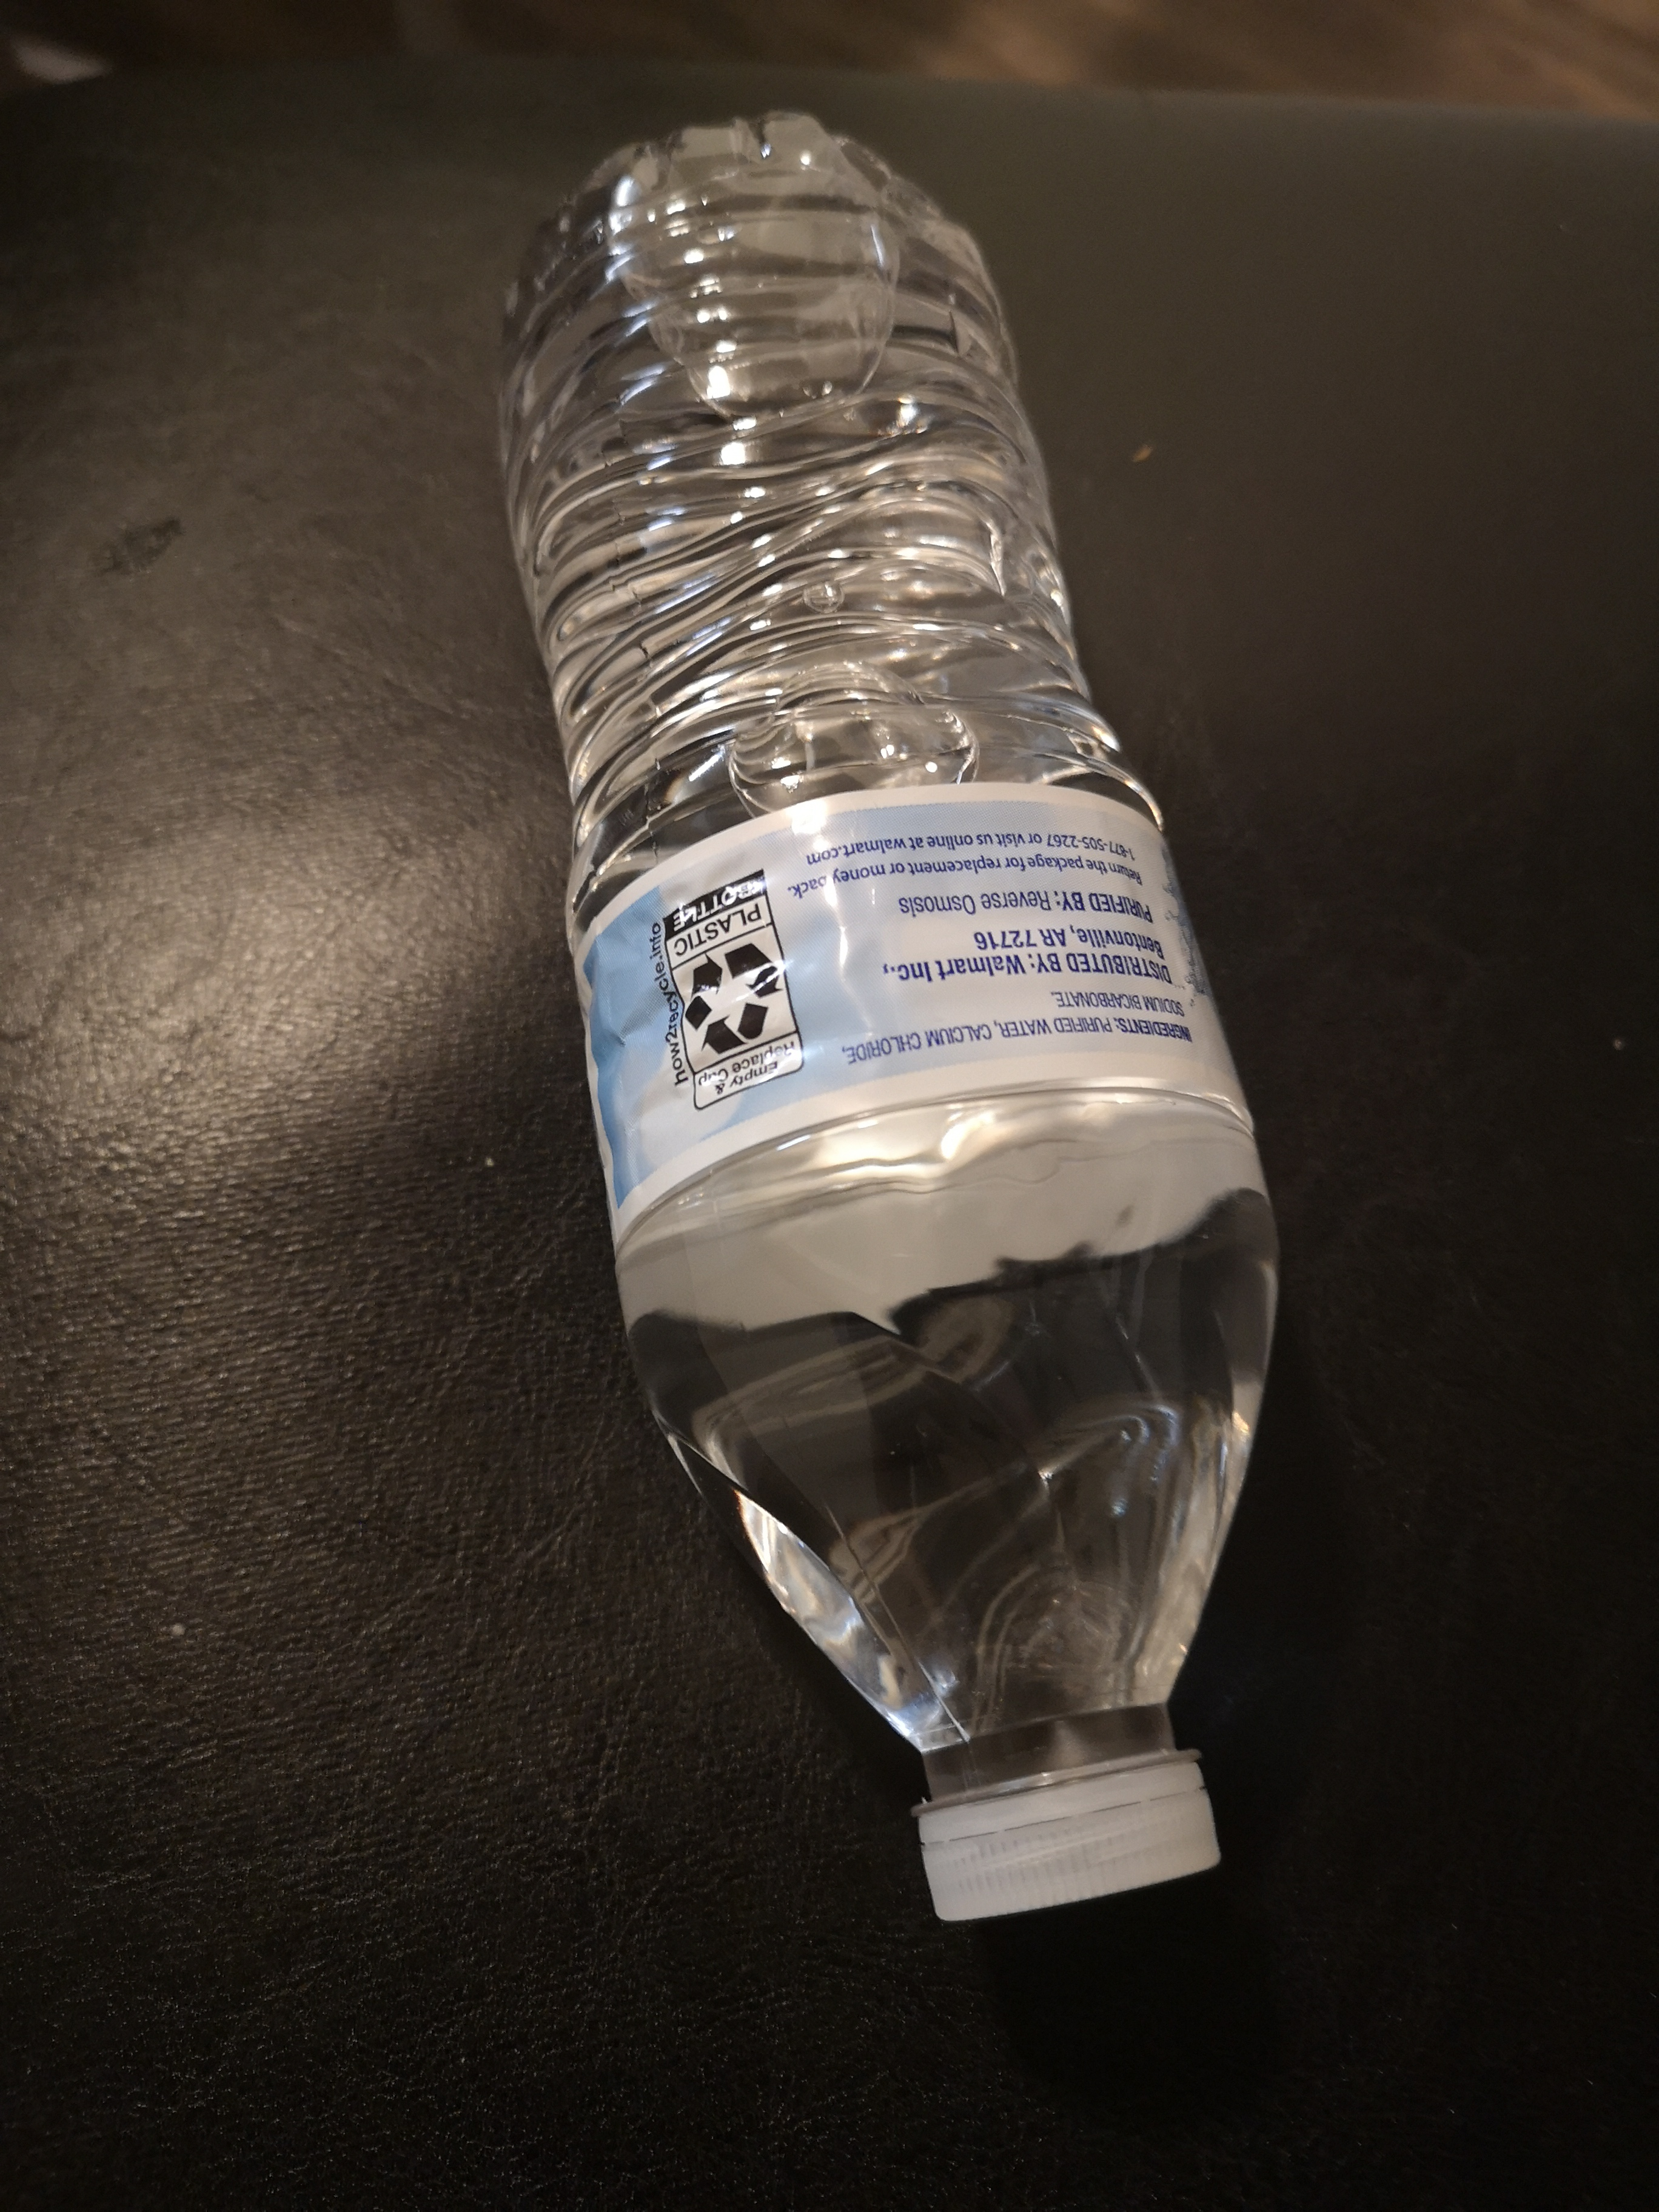其他: (469, 127, 1286, 1928)
